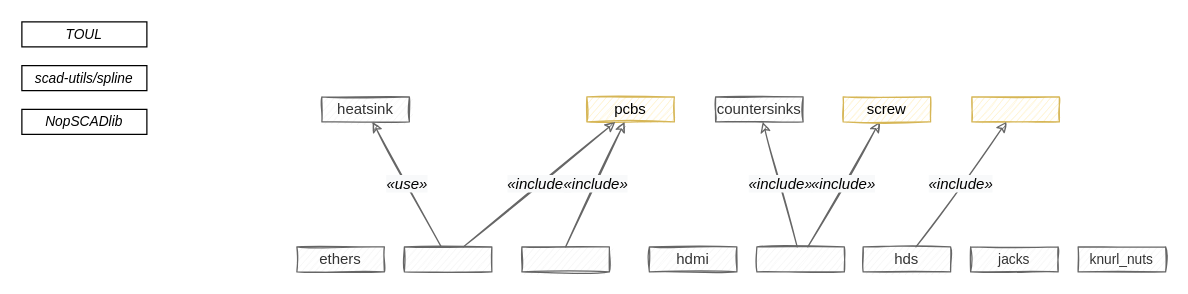
This 1188x294 diagram has some shape labels left out. The shapes that lost their labels are listed below. From the top down, each one's centre as x and y in pixels, then its label:
At (x=1015, y=109): "satas".
At (x=447, y=259): "heatsinks".
At (x=565, y=259): "pcb_holder".
At (x=800, y=259): "magnets".
